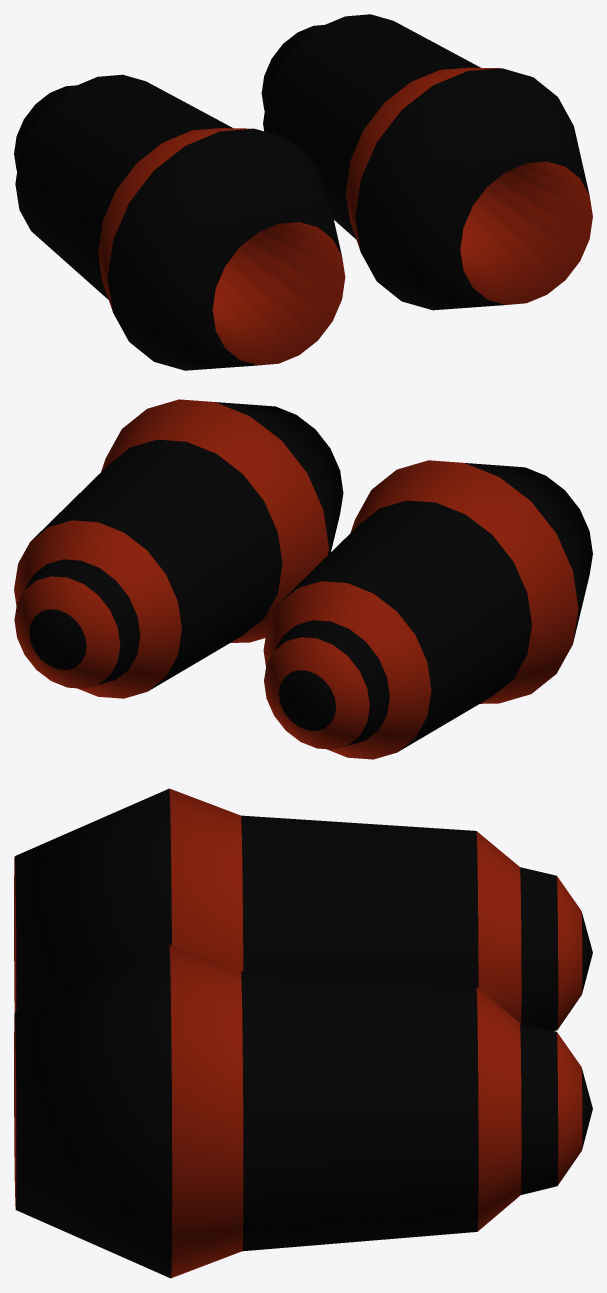
Rendered from Horde Engine 2.fbx.
The picture shows the model from 3 angles, top to bottom: view 1: azimuth 30°, elevation 25°; view 2: azimuth 150°, elevation 25°; view 3: azimuth 270°, elevation 25°; orthographic projection. The views are drawn at different scales.
Parts seen in each view (by area): view 1: pCylinder24; view 2: pCylinder24; view 3: pCylinder24.
Boxes of the visible parts, x1=… form: pCylinder24: x1=14, y1=14, x2=592, y2=370; pCylinder24: x1=14, y1=399, x2=592, y2=759; pCylinder24: x1=14, y1=788, x2=592, y2=1278.
Bounding box in the file's own units: 10.4 × 4.96 × 8.53.
